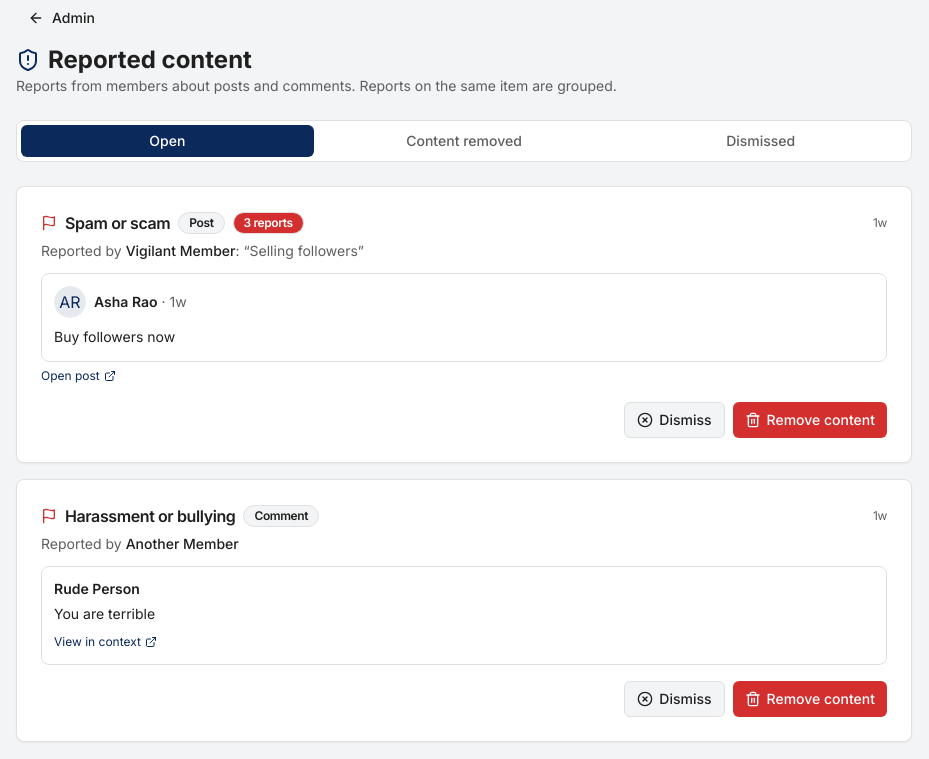
Admin reported content › switches to the resolved tab and shows its empty state
Check: the text "Buy followers now" is shown, box top-left (54, 328), bottom-right (175, 345)
Click the tab "Dismissed": (761, 141) top-left (614, 125), bottom-right (907, 157)
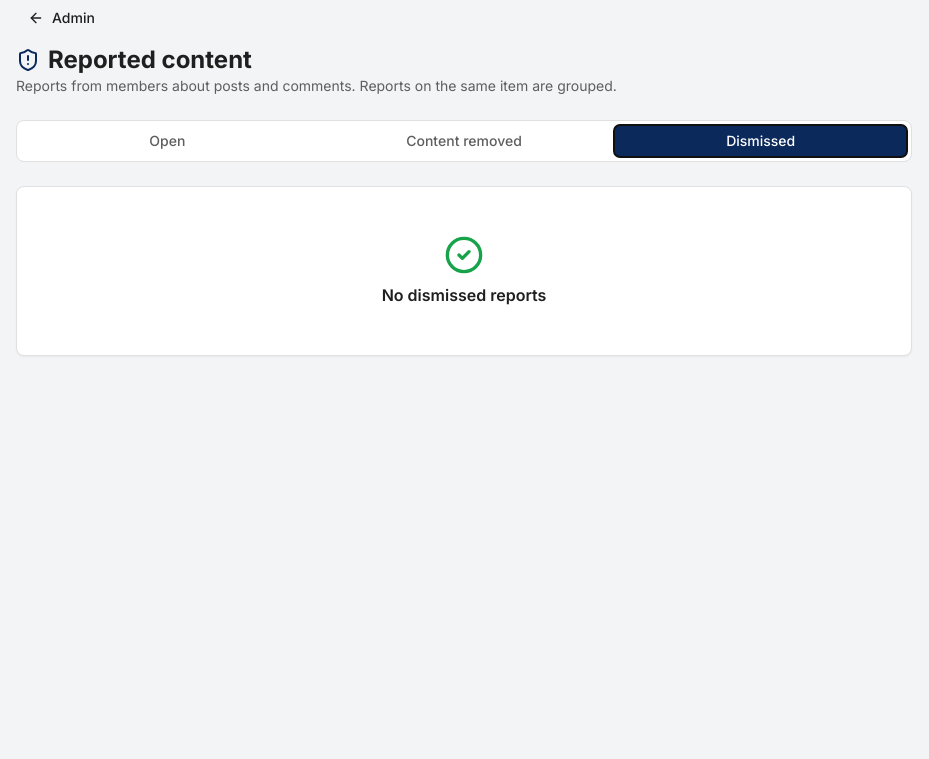
Check: the text "No dismissed reports" is shown, box top-left (382, 283), bottom-right (546, 307)
